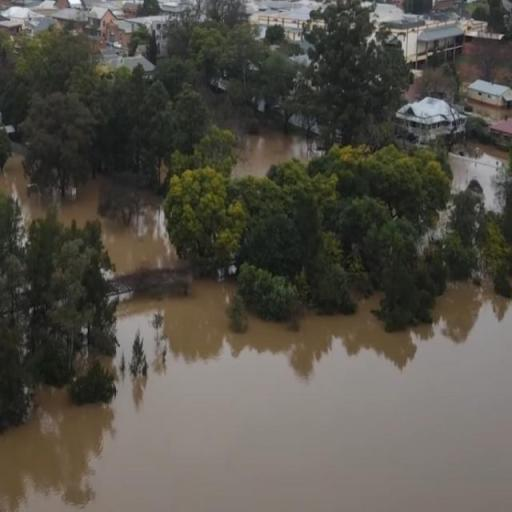flood: (0, 281, 512, 512), (100, 208, 181, 273), (233, 130, 320, 177), (450, 153, 506, 211), (0, 152, 45, 224), (61, 177, 103, 224)
house: (395, 94, 460, 156), (401, 14, 465, 62), (468, 78, 512, 110), (85, 4, 119, 32)
